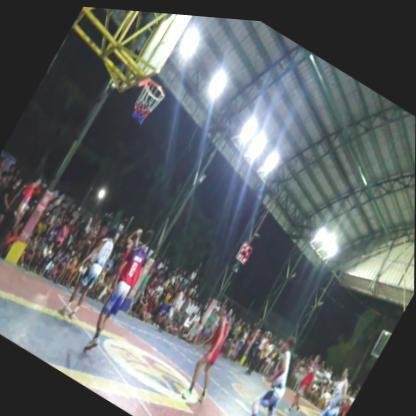basketball: (131, 223, 144, 241)
rim: (118, 58, 176, 140)
